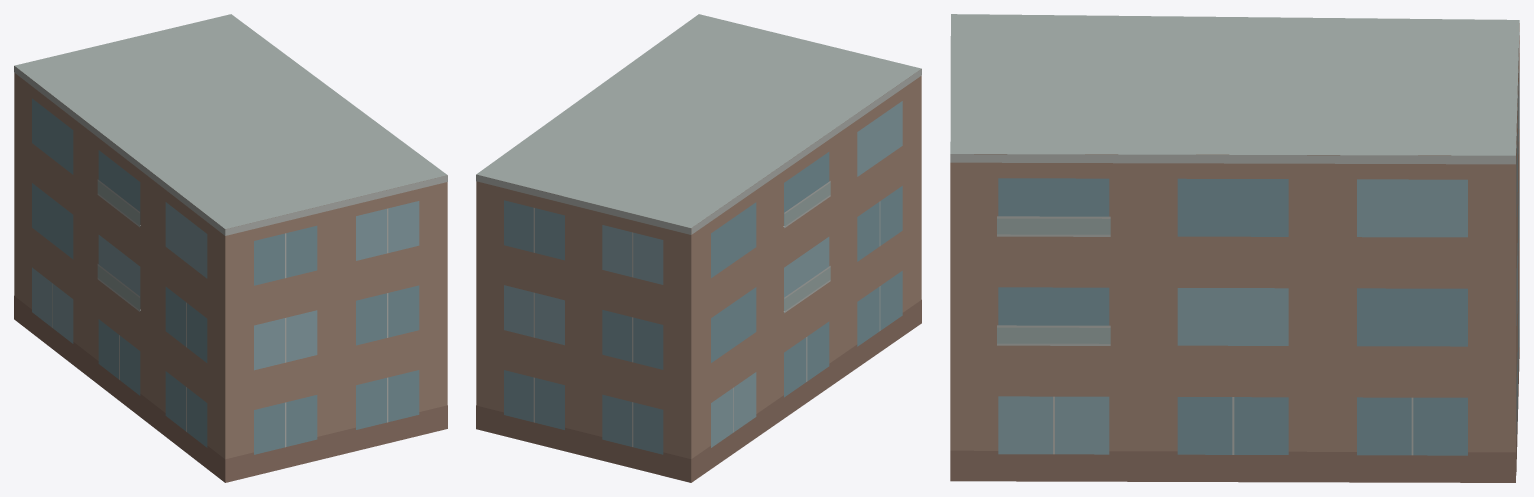
File: survey-upis-32621269.glb
The picture shows the model from 3 angles, left to right: view 1: azimuth 30°, elevation 25°; view 2: azimuth 150°, elevation 25°; view 3: azimuth 270°, elevation 25°; orthographic projection. The views are drawn at different scales.
Parts seen in each view (by area): view 1: survey-upis-32621269.tmp; view 2: survey-upis-32621269.tmp; view 3: survey-upis-32621269.tmp.
Boxes of the visible parts, bbox=[...] form: survey-upis-32621269.tmp: bbox=[14, 14, 447, 482]; survey-upis-32621269.tmp: bbox=[476, 14, 921, 482]; survey-upis-32621269.tmp: bbox=[950, 14, 1519, 482].
Size of the model in its own units: 8.5 by 9.15 by 14.44.
